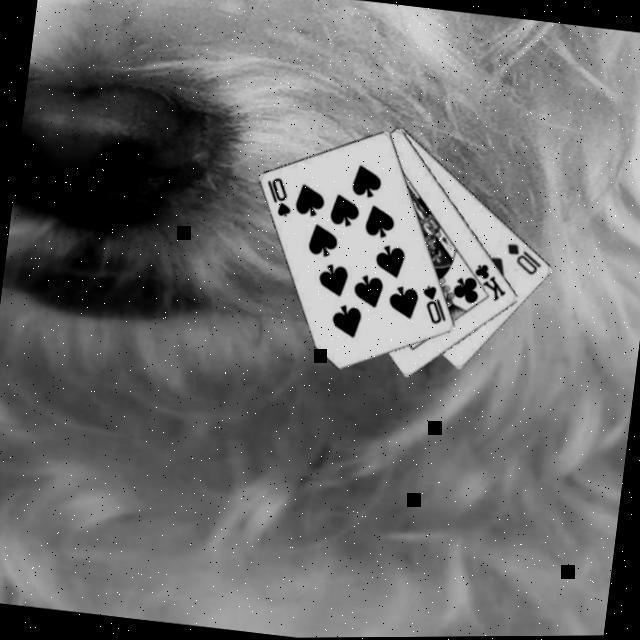10D: (499, 238, 545, 278)
10S: (415, 280, 452, 328), (259, 172, 296, 220)
KC: (460, 258, 510, 304)
